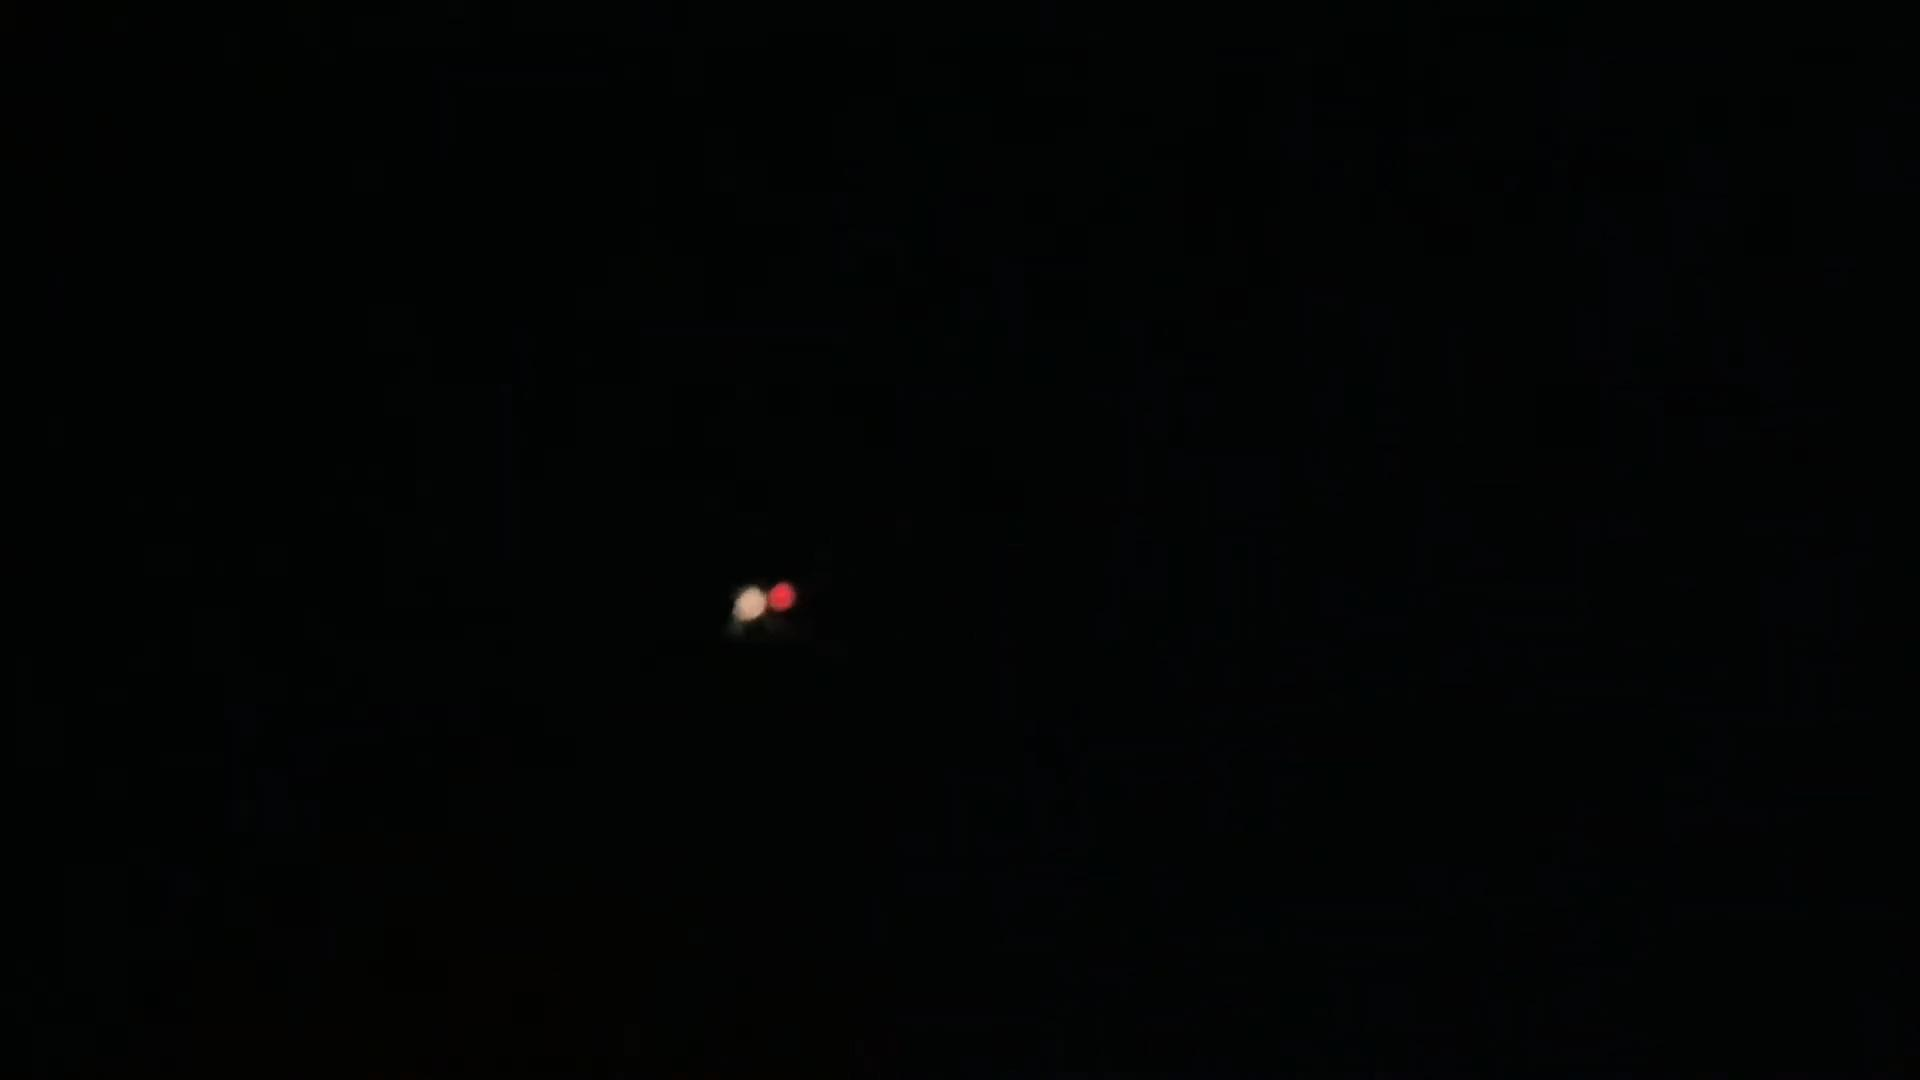Plane: (641, 554, 889, 650)
